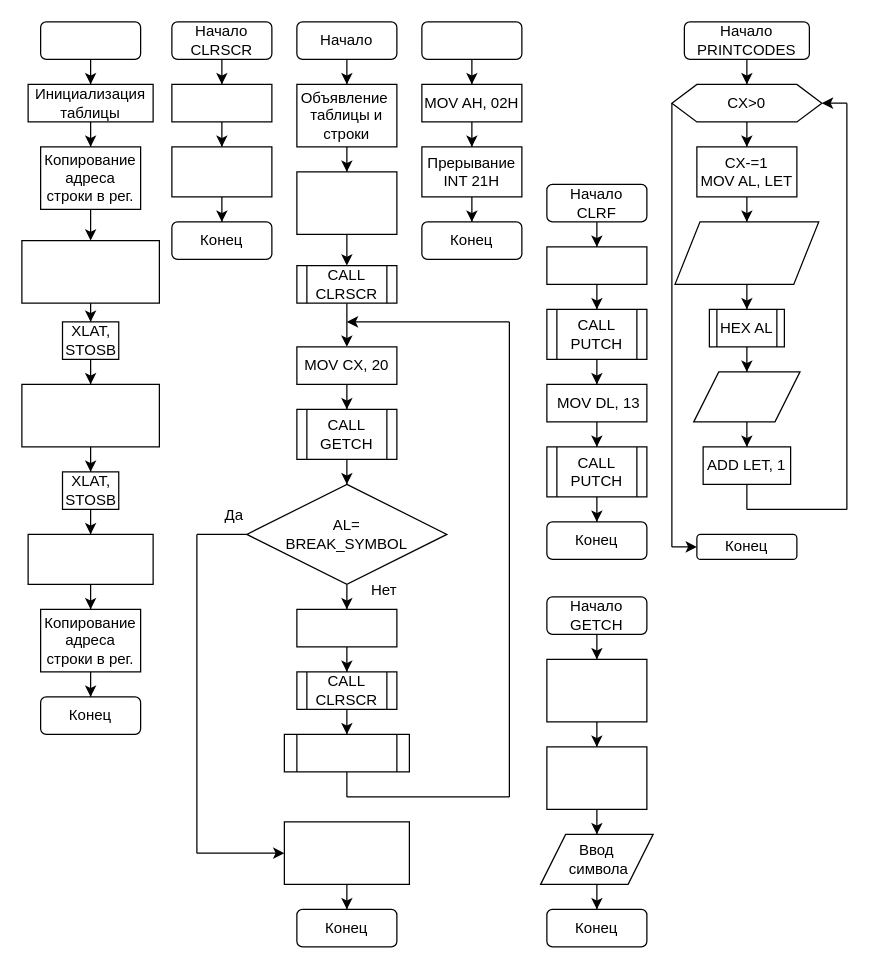
The diagram is 879 pixels wide and 969 high, and some of its shapes have lost their labels. The centre of each missing label's shape, as x and y in pixels:
CALL PRINTCODES: point (346, 752)
MOV AH, 0H: point (221, 102)
MOV AH, 8 H: point (596, 690)
MOV DL, 10: point (596, 265)
MOV LET, AL: point (346, 627)
PUTCH AL: point (746, 396)
PUTCH символа из LET + '-': point (746, 252)
Ввод в String 'h' после числа: point (90, 558)
Выход из программы с кодом 5: point (346, 852)
Загрузка регистров CS, DS, ES: point (346, 202)
Наложение маски на AL: 16-код правой части: point (90, 415)
Начало HEX: point (90, 40)
Начало PUTCH: point (471, 40)
Прерывание INT 10H: point (221, 171)
Прерывание INT 21 H: point (596, 777)
Сдвиг SHR AL на 4: 16-код левой части: point (90, 271)
